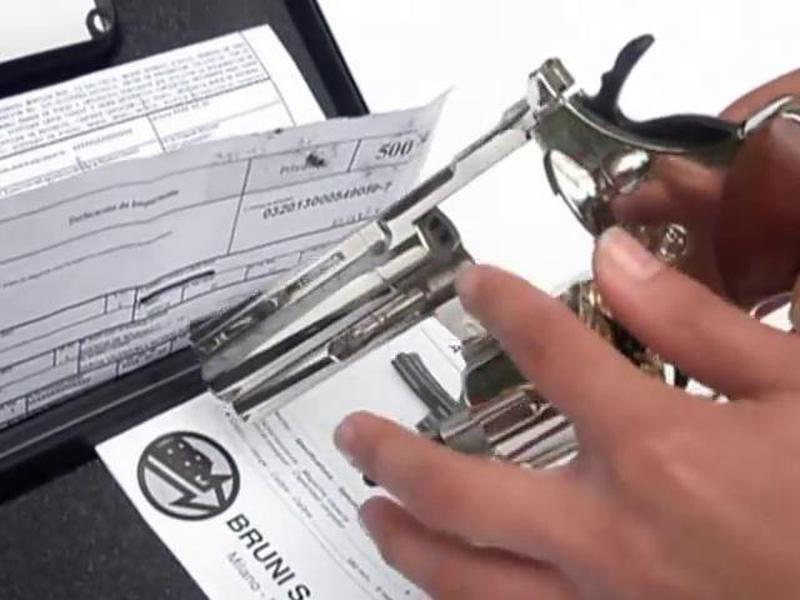Revolver: (183, 54, 800, 432)
